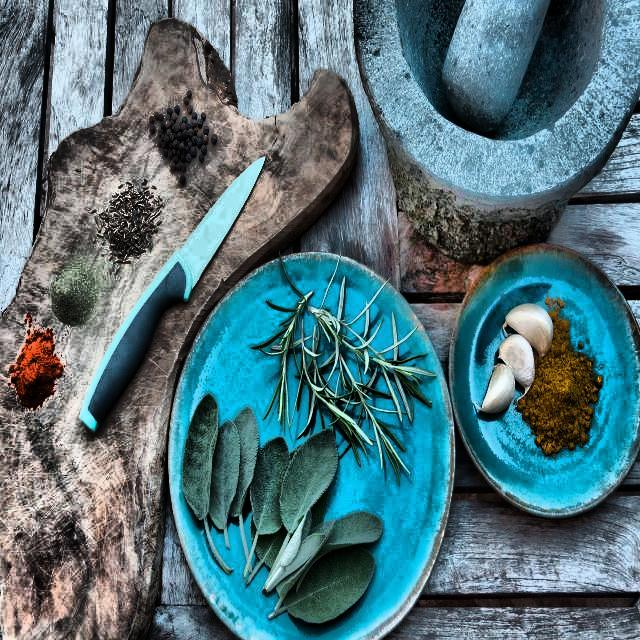knife: (73, 153, 271, 437)
